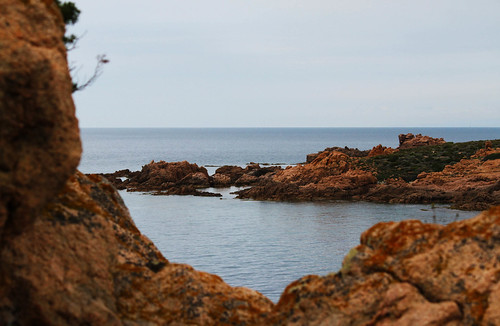rocks: (130, 148, 500, 211)
sea: (144, 202, 445, 284), (78, 127, 455, 165)
sky: (80, 1, 500, 126)
